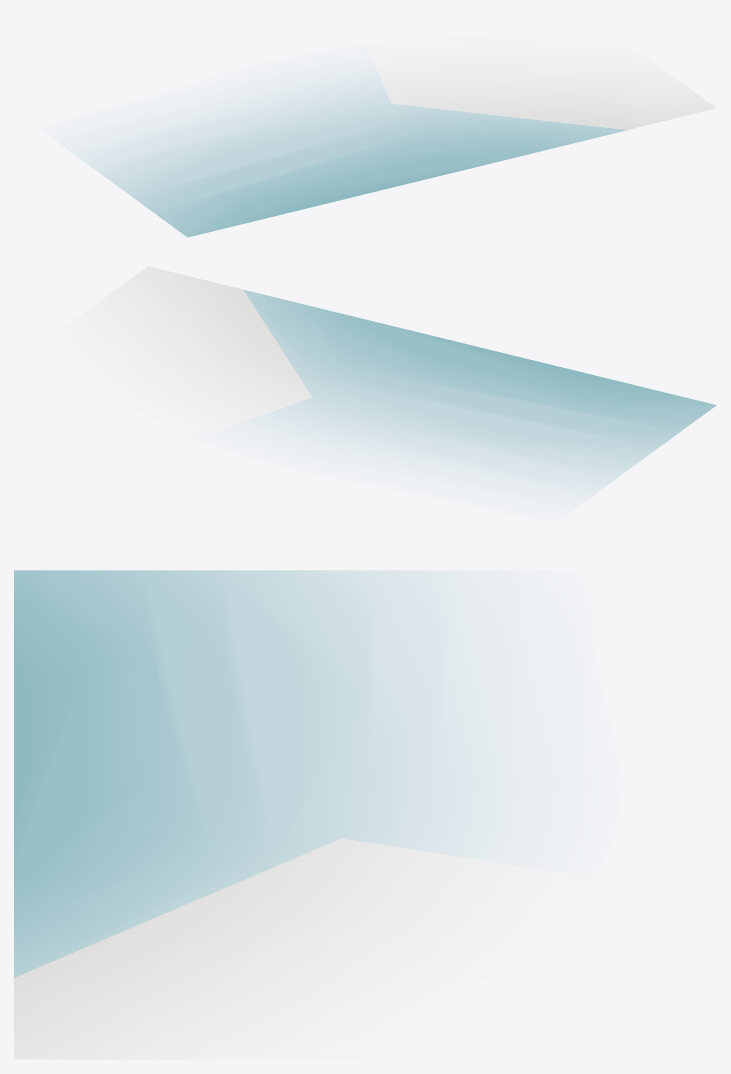
3 views of the same model, one above another, from view 1: azimuth 30°, elevation 25°; view 2: azimuth 150°, elevation 25°; view 3: azimuth 270°, elevation 25° (orthographic). The views are drawn at different scales.
Visible parts, largest first — view 1: city; view 2: city; view 3: city.
Boxes of the visible parts, x1,y1,x2,y2 form: city: (79,67,715,237); city: (101,266,716,491); city: (14,570,501,1059).
Bounding box in the file's own units: 500 × 0.18 × 303.
